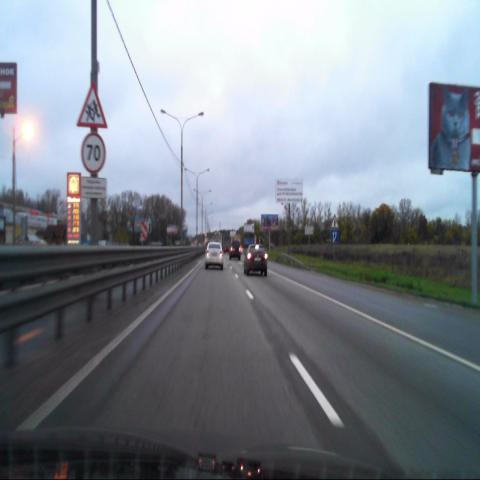3_24: (82, 132, 105, 173)
